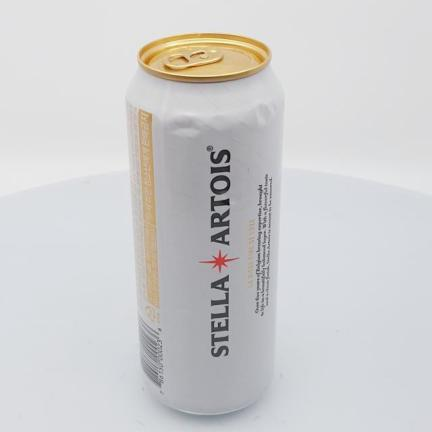can: (127, 33, 284, 414)
